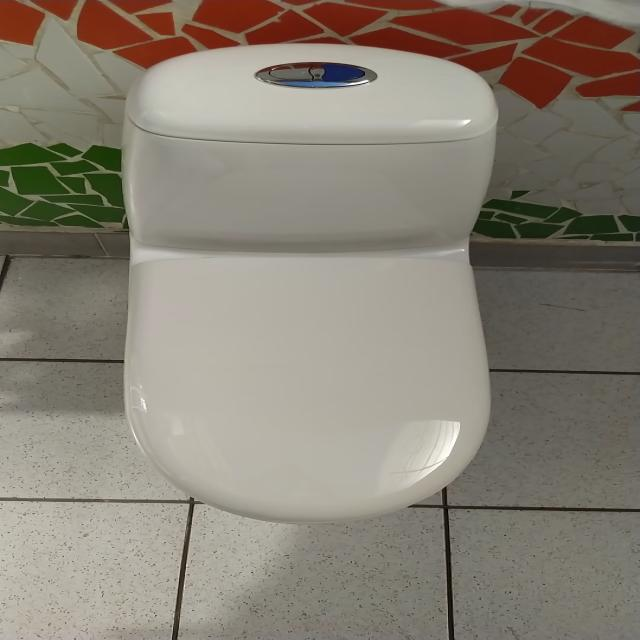toilet: (118, 42, 499, 524)
